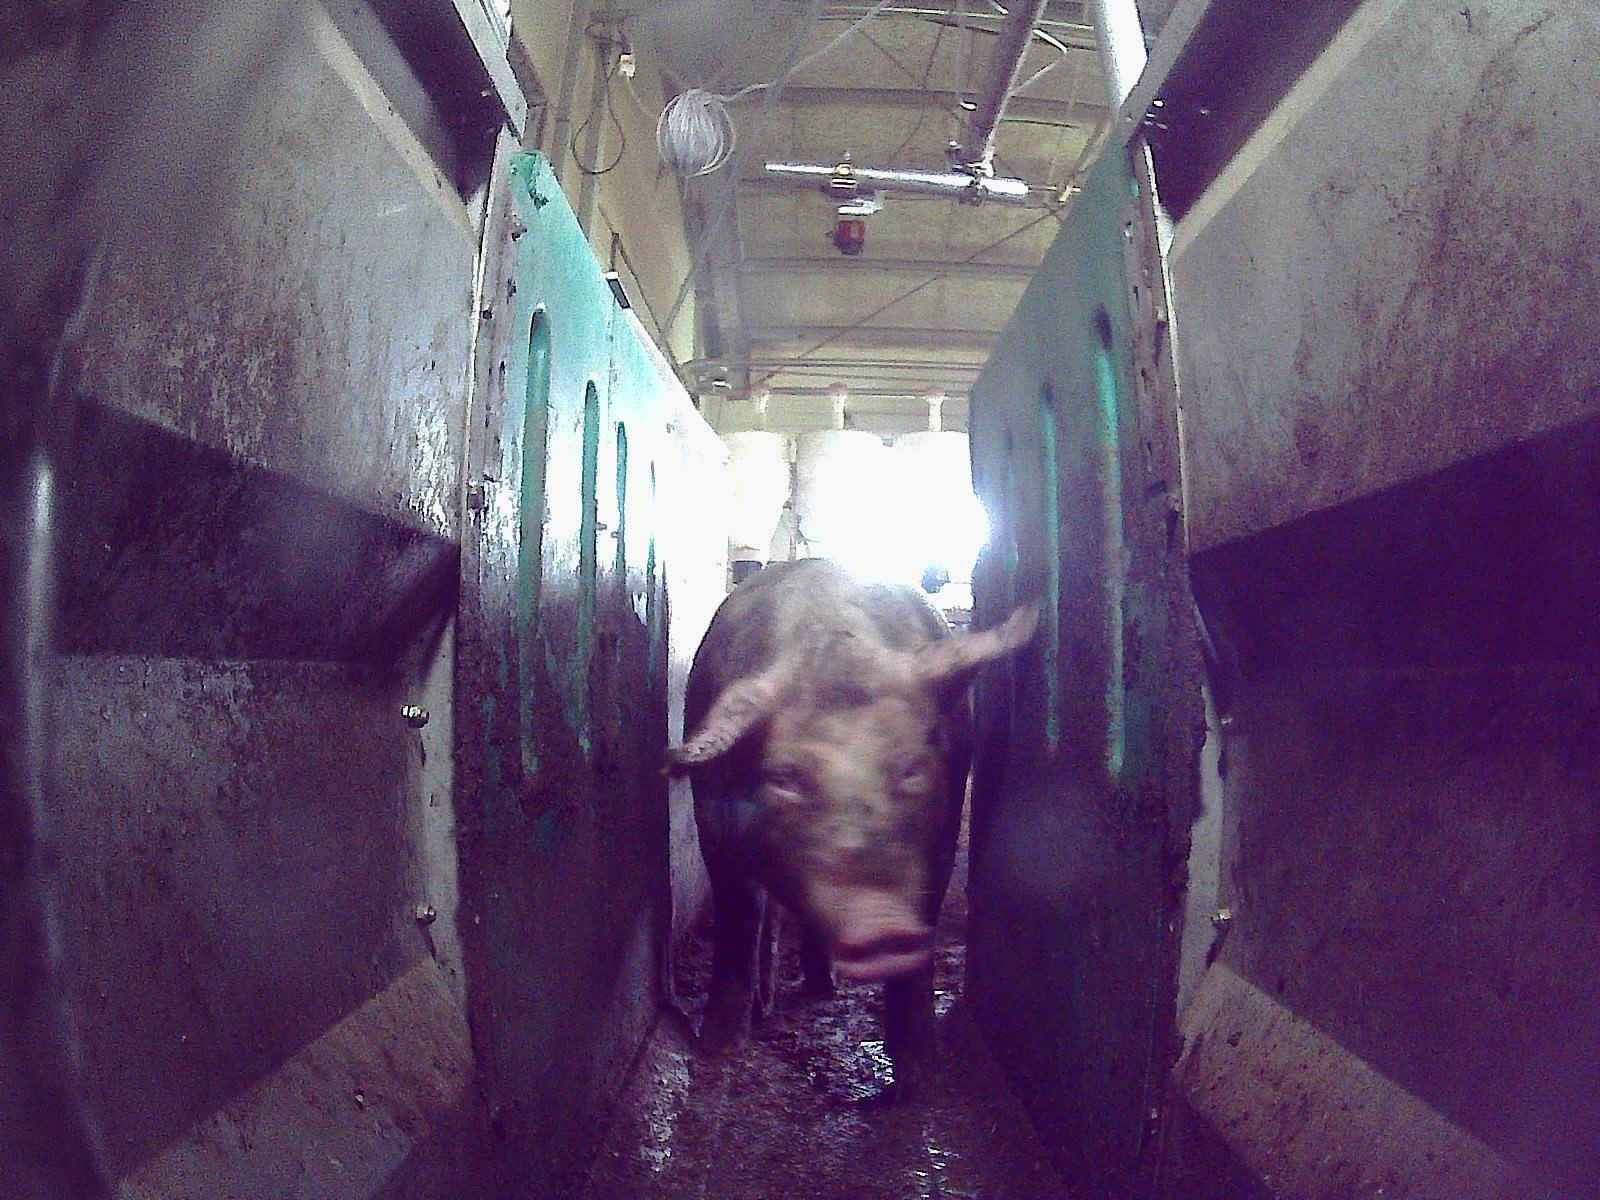Face: (741, 675, 950, 972)
